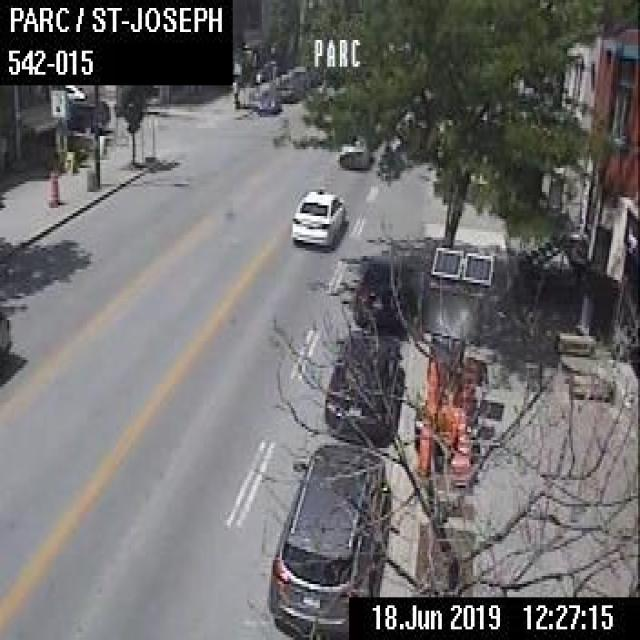construction: (413, 244, 493, 455), (452, 428, 468, 483), (418, 426, 430, 476)
vehicle: (266, 442, 391, 637), (322, 328, 401, 442), (352, 252, 405, 326), (289, 184, 345, 251), (66, 100, 110, 132), (336, 138, 371, 170), (274, 76, 300, 102), (255, 88, 279, 113), (0, 306, 9, 362), (63, 82, 86, 100)
